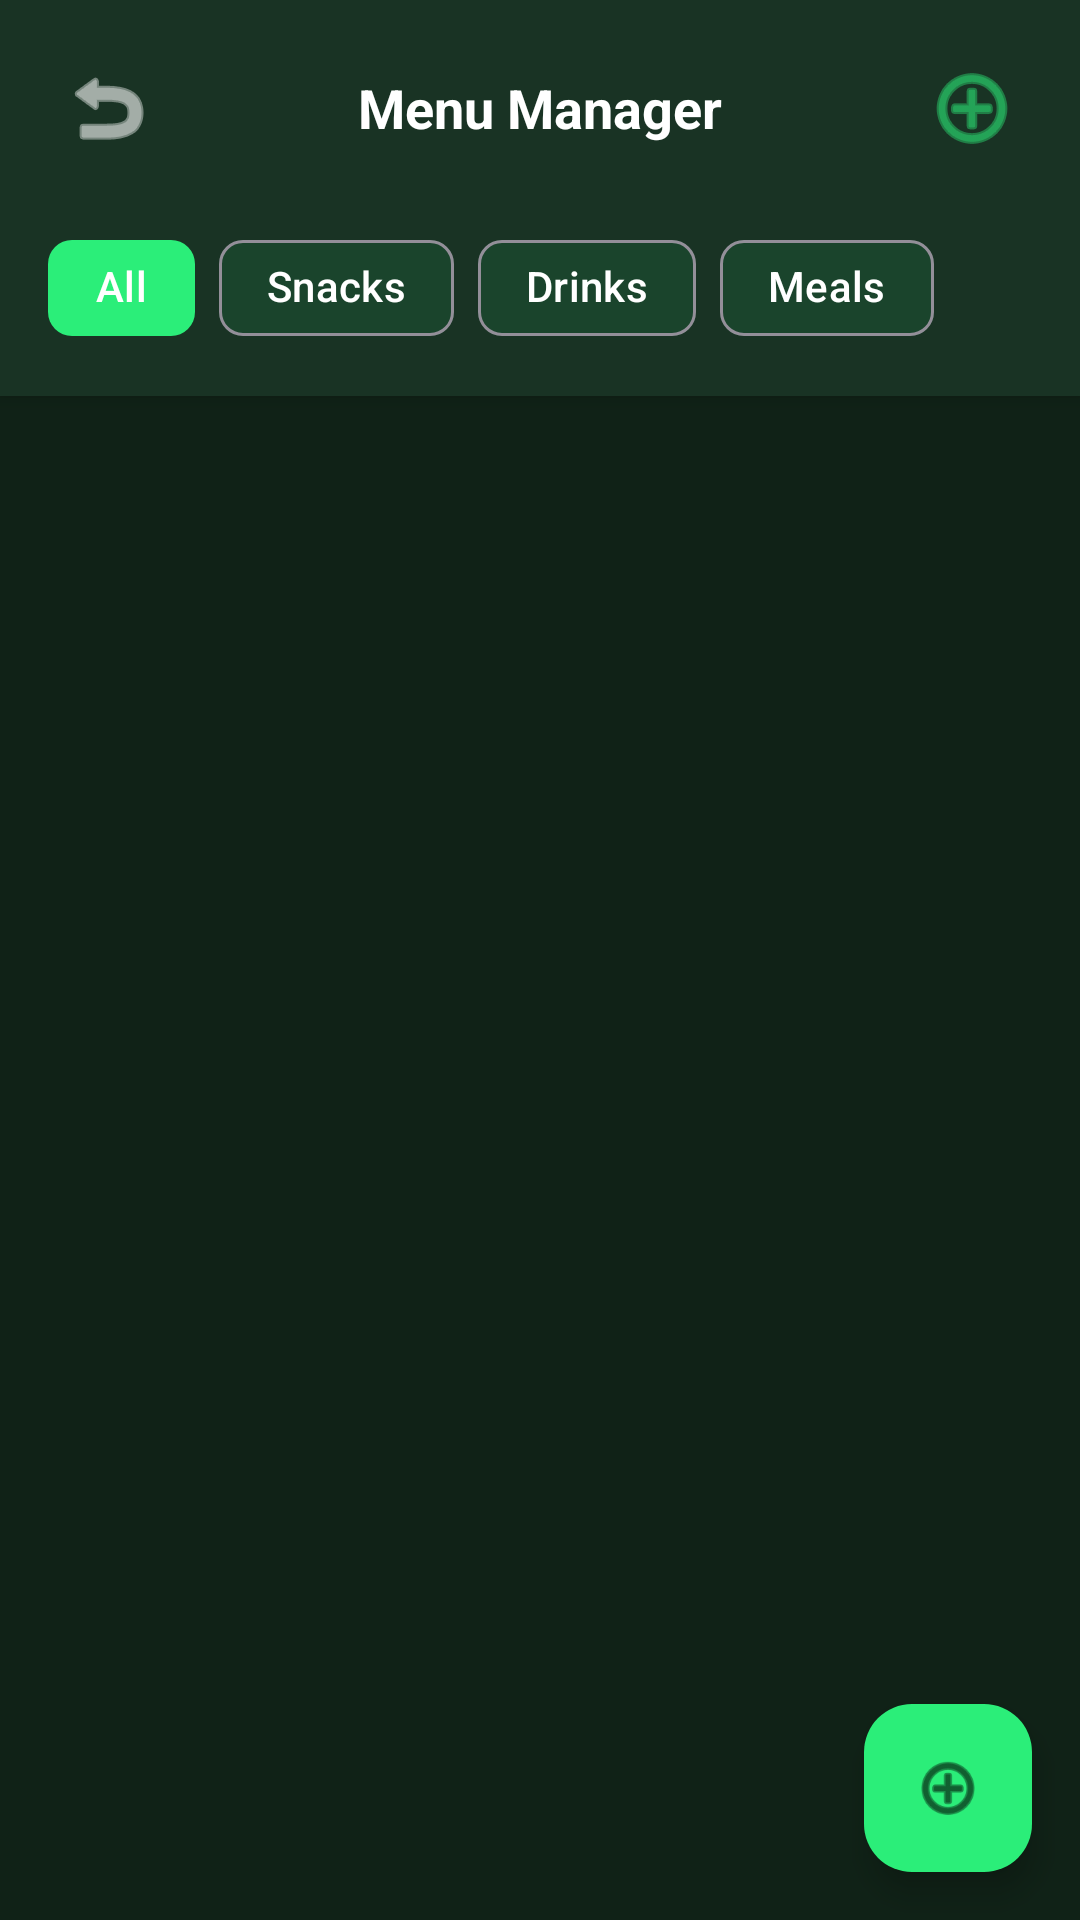

Icons on this 1080w x 1920h Android screen, each with its box as (x1, y1, x2, y2):
add: (936, 73, 1008, 144), (864, 1704, 1032, 1872)
revert: (75, 77, 144, 140)
